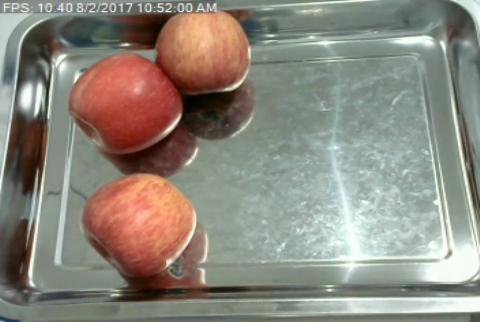apple: (82, 172, 195, 275), (69, 53, 182, 152), (159, 12, 251, 93)
